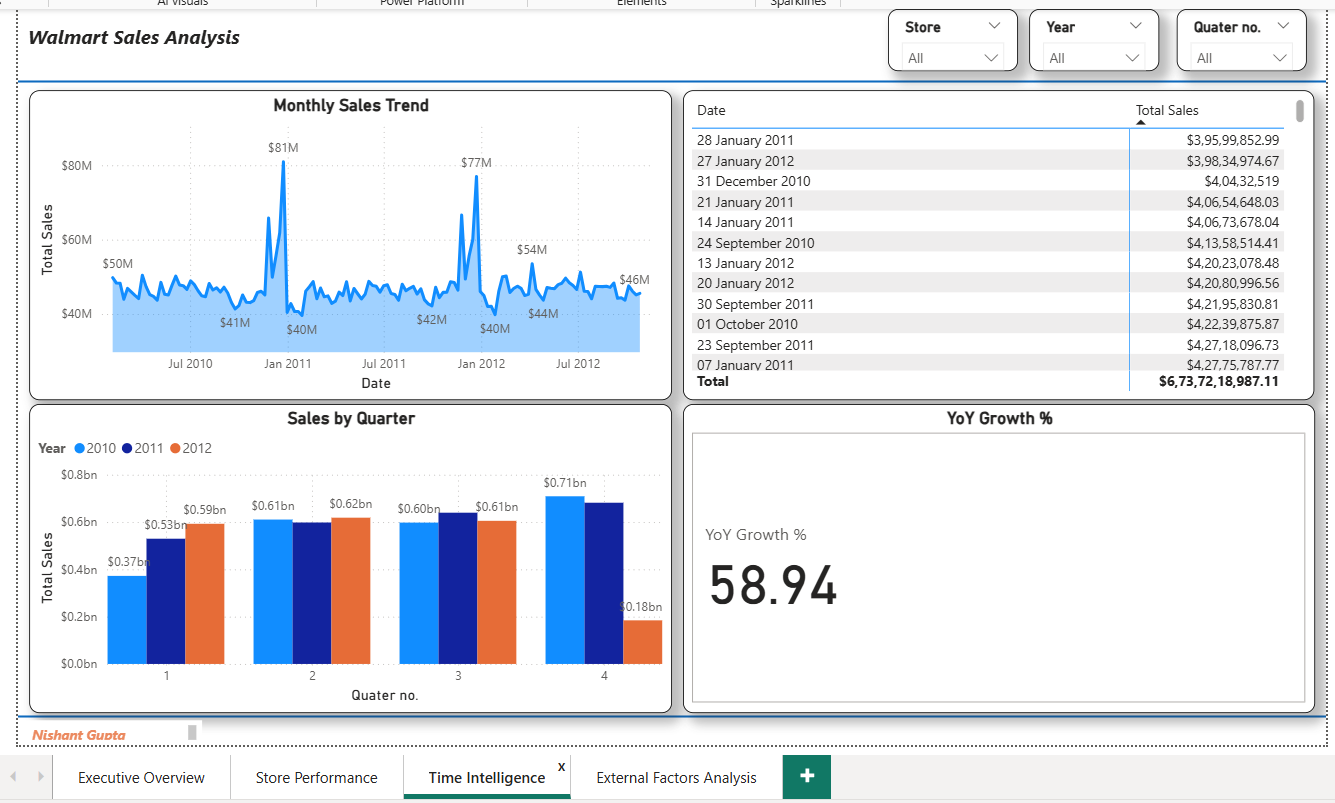

The dashboard page shown, as its layout file describes it:
{"tool":"powerbi","page":{"name":" Time Intelligence","canvas":[1280,720],"ordinal":2},"visuals":[{"type":"shape","box":[0,64.8,1280,12.2],"z":0},{"type":"shape","box":[0,686,1280,12.2],"z":1000},{"type":"areaChart","title":"Monthly Sales Trend","fields":{"Category":["Walmart DataSet.Date.Variation.Date Hierarchy.Year"],"Y":["KPI.Total Sales"]},"box":[11,79.5,628.5,303.3],"z":2000},{"type":"clusteredColumnChart","title":"Sales by Quarter","fields":{"Y":["KPI.Total Sales"],"Series":["Date.Year"],"Category":["Date.Quater no."]},"box":[11,386.4,628.5,302],"z":3000},{"type":"pivotTable","title":"Seasonality Heatmap","fields":{"Rows":["Walmart DataSet.Date"],"Values":["KPI.Total Sales"]},"box":[650.5,79.5,617.5,303.3],"z":4000},{"type":"cardVisual","title":"YoY Growth %","fields":{"Data":["KPI.YoY Growth %"]},"box":[650.5,386.4,618.8,302],"z":5000},{"type":"slicer","fields":{"Values":["Walmart DataSet.Store"]},"box":[851.1,0,127.2,61.1],"z":6000},{"type":"slicer","fields":{"Values":["Date.Year"]},"box":[989.3,0,127.2,61.1],"z":7000},{"type":"slicer","fields":{"Values":["Date.Quater no."]},"box":[1133.6,0,127.2,61.1],"z":8000},{"type":"textbox","box":[4.9,9.8,221.3,51.4],"z":8001},{"type":"textbox","box":[4.9,695.5,174.9,24.5],"z":8002}]}

Visuals, with their boxes on the page's 1280x720 design canvas (x1, y1, x2, y2). These are canvas units, not pixel positions in the 1335x803 screenshot, which may show the page scaled, cropped or inside an application window:
shape: [left=0, top=65, right=1280, bottom=77]
shape: [left=0, top=686, right=1280, bottom=698]
"Monthly Sales Trend" areaChart: [left=11, top=80, right=640, bottom=383]
"Sales by Quarter" clusteredColumnChart: [left=11, top=386, right=640, bottom=688]
"Seasonality Heatmap" pivotTable: [left=650, top=80, right=1268, bottom=383]
"YoY Growth %" cardVisual: [left=650, top=386, right=1269, bottom=688]
slicer - Walmart DataSet.Store: [left=851, top=0, right=978, bottom=61]
slicer - Date.Year: [left=989, top=0, right=1116, bottom=61]
slicer - Date.Quater no.: [left=1134, top=0, right=1261, bottom=61]
textbox: [left=5, top=10, right=226, bottom=61]
textbox: [left=5, top=696, right=180, bottom=720]
